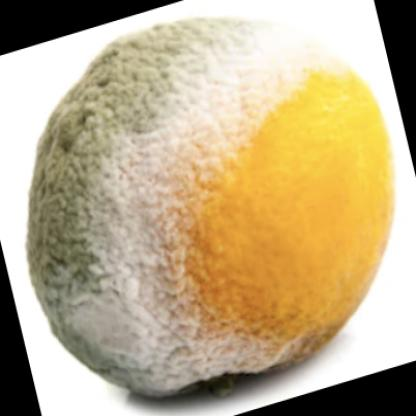rotten: (31, 17, 396, 397)
